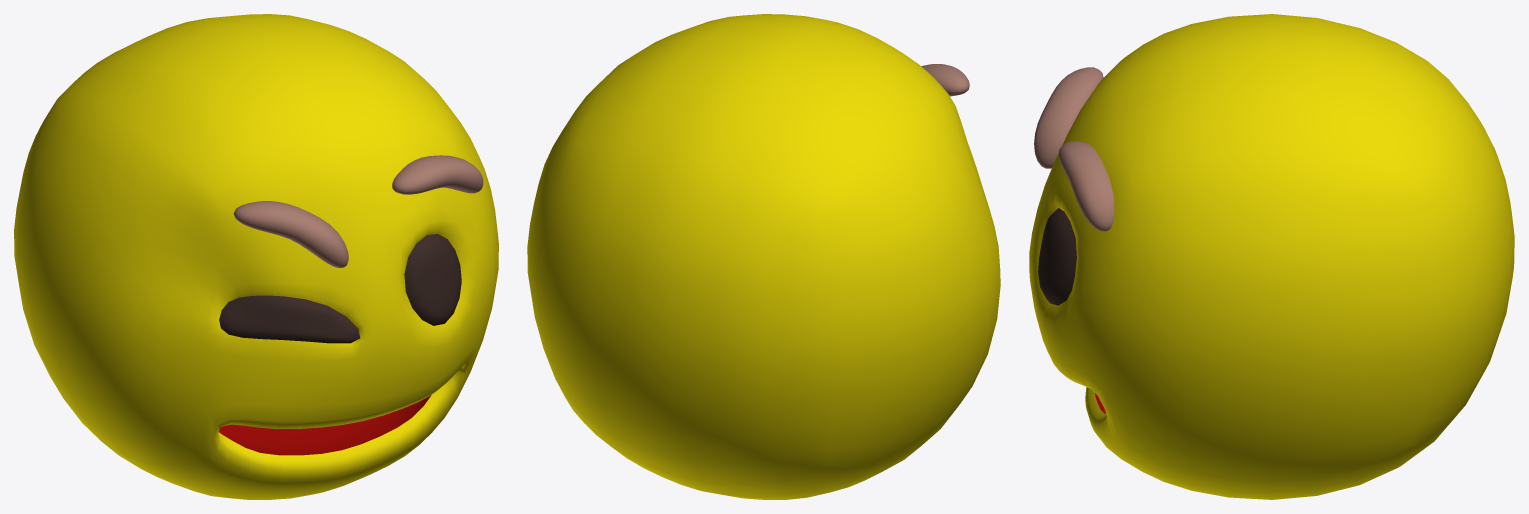
File: Emojis3.fbx
3 renders of one model, left to right at view 1: azimuth 30°, elevation 25°; view 2: azimuth 150°, elevation 25°; view 3: azimuth 270°, elevation 25°, orthographic.
Visible parts, largest first — view 1: Emoji 2 Wink; view 2: Emoji 2 Wink; view 3: Emoji 2 Wink.
Part boxes in pixels (left/top/right/bottom): Emoji 2 Wink: left=14, top=14, right=498, bottom=499; Emoji 2 Wink: left=527, top=14, right=1000, bottom=499; Emoji 2 Wink: left=1029, top=14, right=1514, bottom=499.
Bounding box in the file's own units: 157 × 159 × 160.
